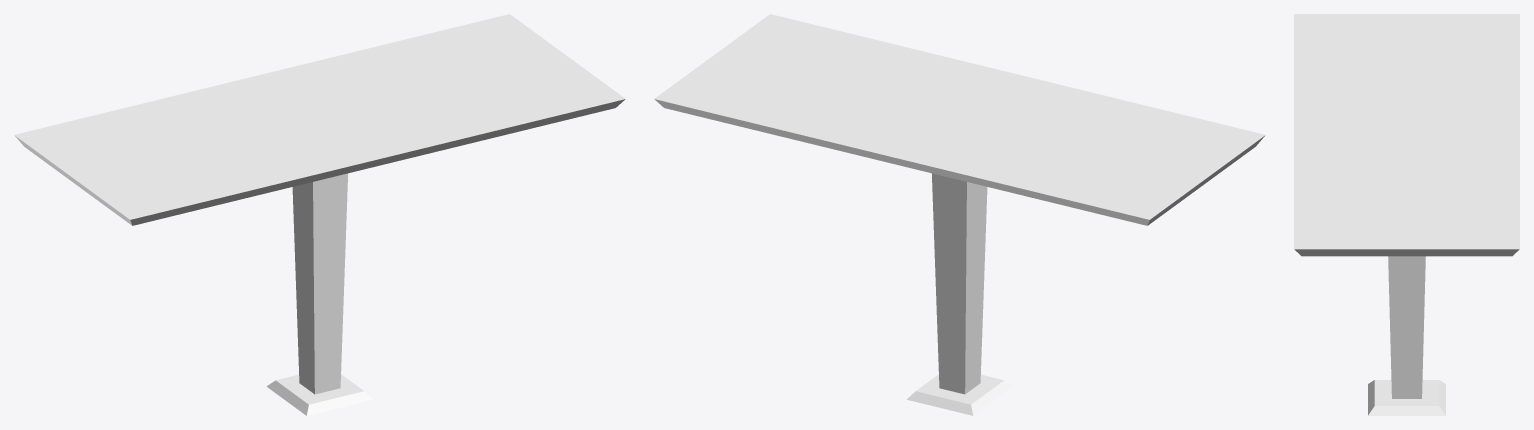
The model's file is Table.fbx.
3 renders of one model, left to right at view 1: azimuth 30°, elevation 25°; view 2: azimuth 150°, elevation 25°; view 3: azimuth 270°, elevation 25°, orthographic. The views are drawn at different scales.
Visible parts, largest first — view 1: Table; view 2: Table; view 3: Table.
Part boxes in pixels (bbox=[...]): Table: bbox=[14, 14, 625, 415]; Table: bbox=[654, 14, 1265, 415]; Table: bbox=[1294, 14, 1519, 415].
Bounding box in the file's own units: 185 × 98.37 × 75.
